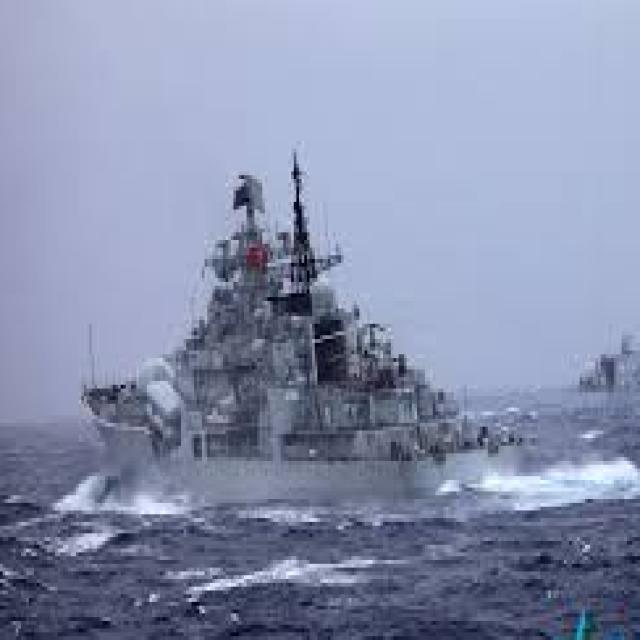navalvessels: (81, 161, 526, 505), (569, 286, 640, 381)
